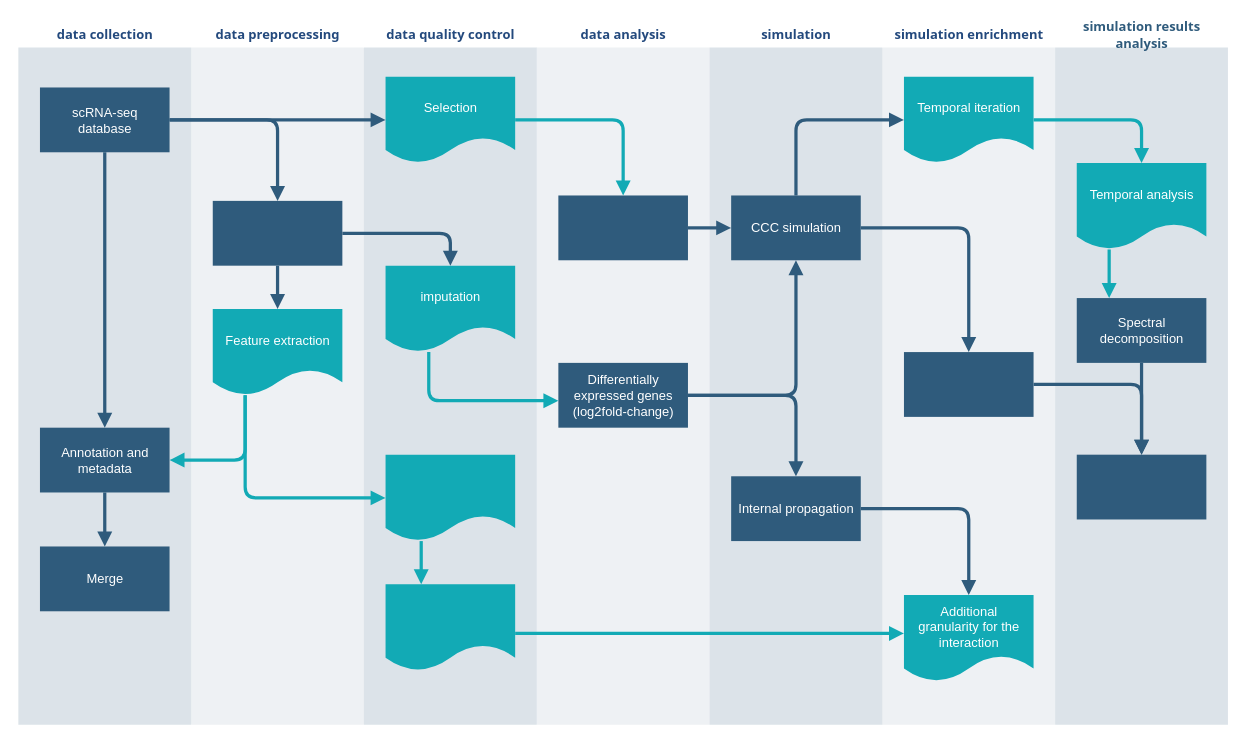
Image size: 1246x743. Some labels were removed from this diagram. Here are the shapes that lost their labels. From the top down, the box of each, then its label:
(212, 200, 342, 265): Count generation
(558, 195, 687, 260): Cell-type inference or validation
(903, 352, 1033, 416): Information exchange
(385, 454, 515, 541): Sample preliminary analysis
(1076, 454, 1206, 519): CCC profiles for every cell
(385, 584, 515, 670): Filtering and identification of spatial info?
